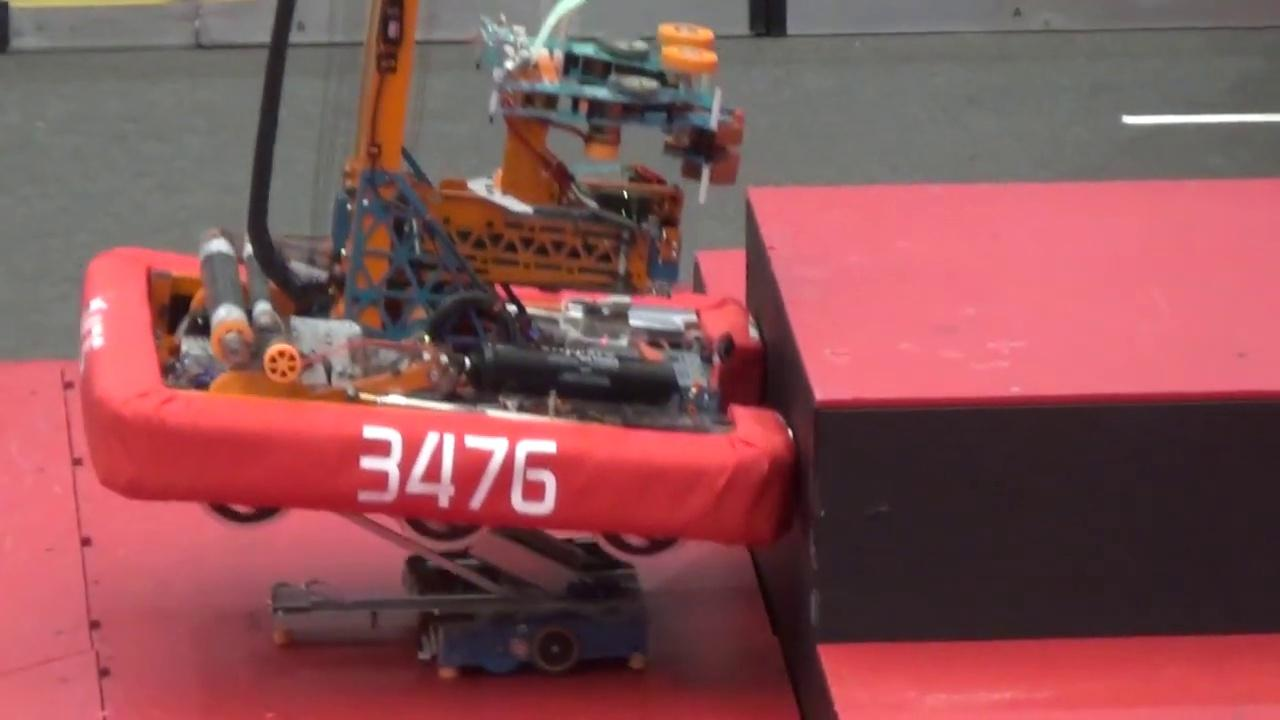robot: (78, 0, 792, 554)
